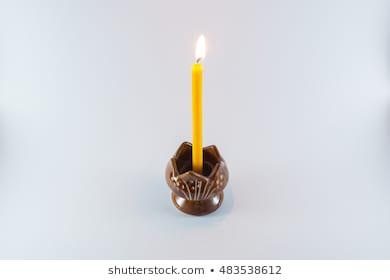fire: (189, 32, 208, 63)
